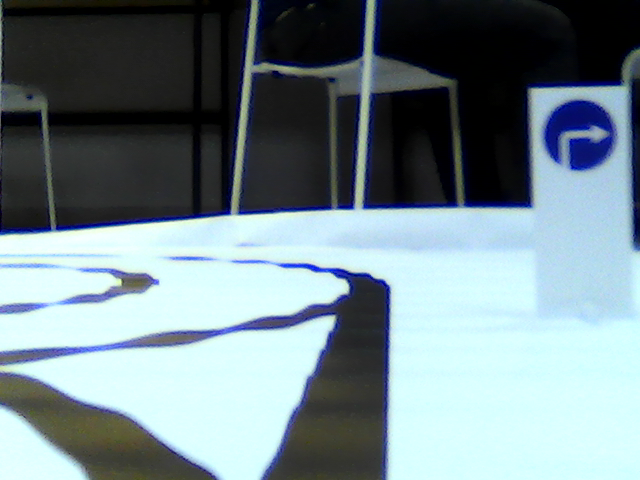Right: (541, 99, 616, 169)
